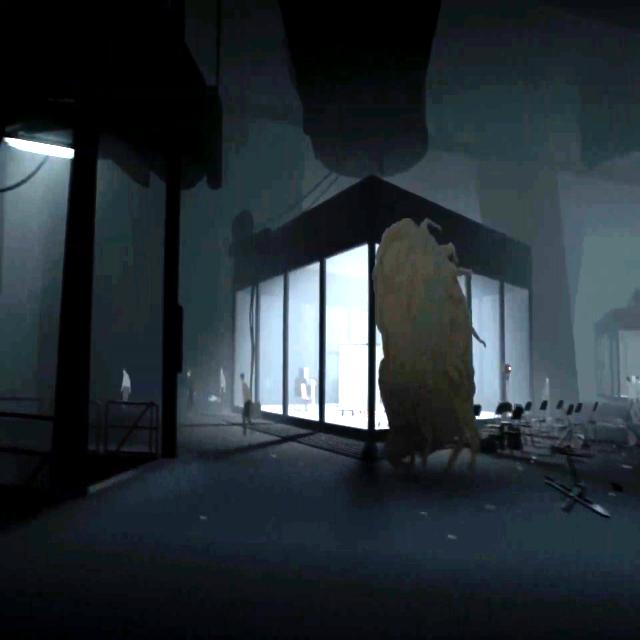blob: (374, 227, 485, 473)
human: (242, 372, 252, 439), (120, 366, 130, 414), (186, 371, 196, 410), (220, 367, 228, 409)
